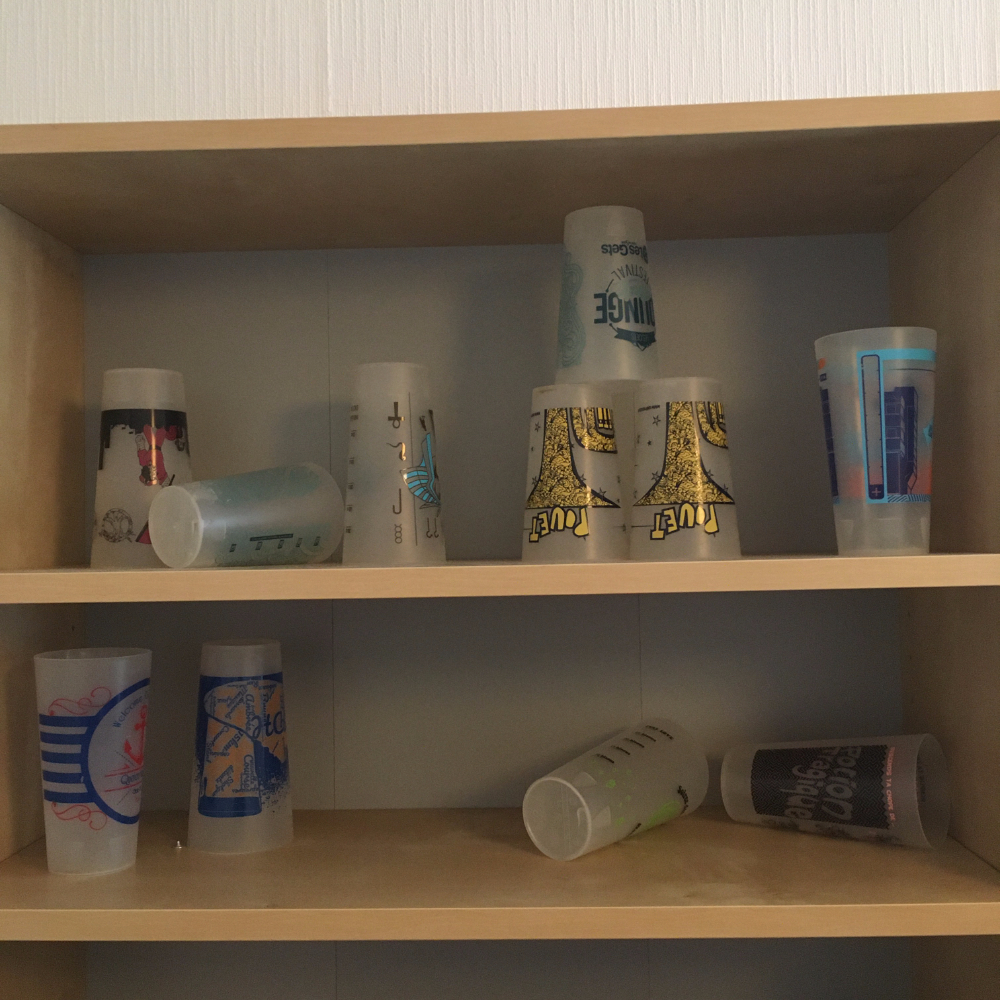ecocup: (813, 326, 937, 556), (720, 733, 953, 851), (32, 646, 152, 875), (522, 718, 708, 861), (186, 639, 295, 853), (342, 363, 447, 563), (90, 368, 194, 568), (630, 377, 743, 558), (148, 463, 343, 567), (555, 205, 658, 392), (522, 384, 630, 560)
